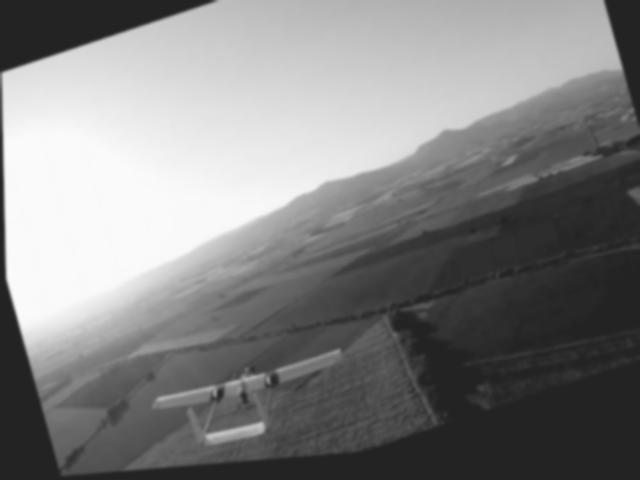hedef: (141, 330, 362, 471)
